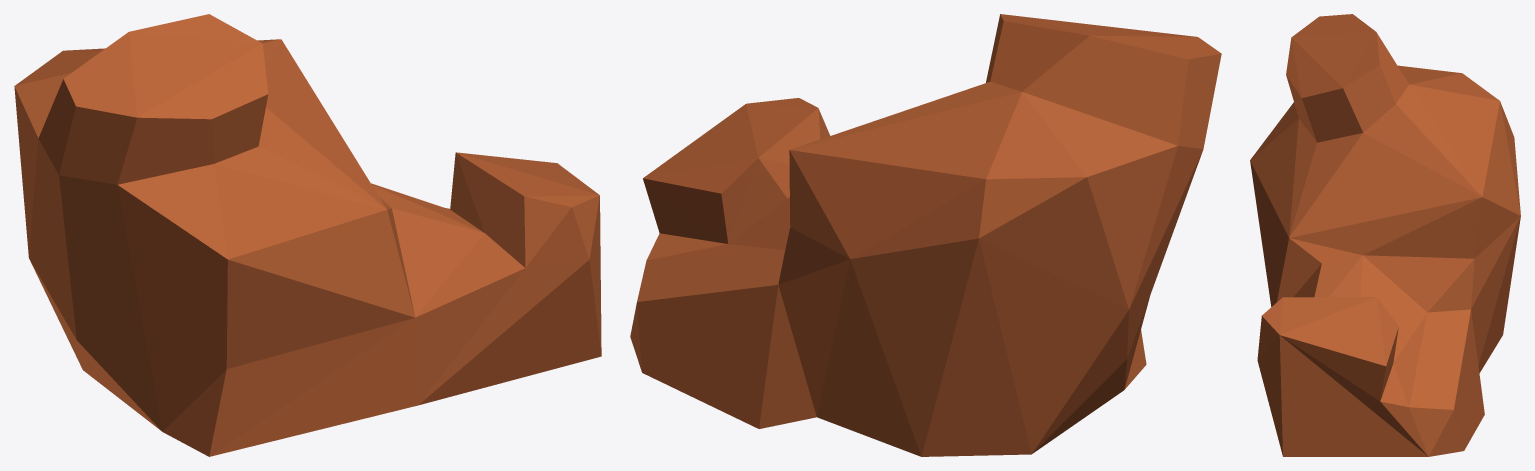
The model's file is BigRockCollider.fbx.
The picture shows the model from 3 angles, left to right: view 1: azimuth 30°, elevation 25°; view 2: azimuth 150°, elevation 25°; view 3: azimuth 270°, elevation 25°; orthographic projection. The views are drawn at different scales.
Visible parts, largest first — view 1: BigRockCollider; view 2: BigRockCollider; view 3: BigRockCollider.
Boxes of the visible parts, x1,y1,x2,y2 form: BigRockCollider: [14, 14, 601, 456]; BigRockCollider: [630, 14, 1221, 456]; BigRockCollider: [1250, 14, 1520, 456].
Size of the model in its own units: 39.01 by 28.07 by 23.62.
